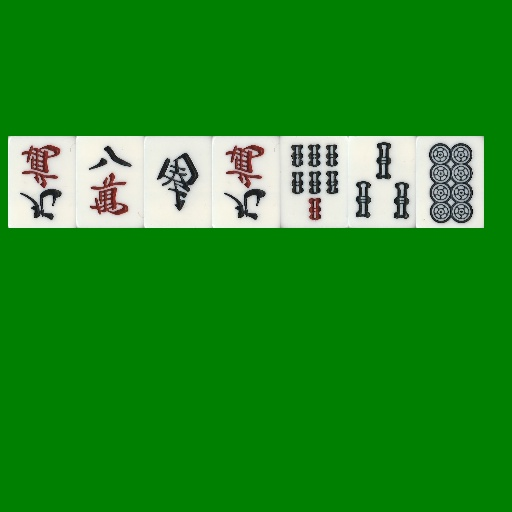3s: (348, 136, 416, 228)
7s: (280, 136, 348, 228)
8m: (76, 136, 144, 228)
8p: (416, 136, 484, 228)
9m: (8, 136, 76, 228), (212, 136, 280, 228)
south: (144, 136, 212, 228)
